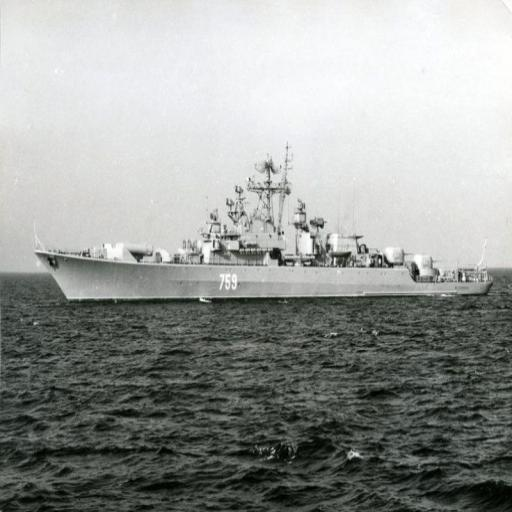Fragata: (34, 135, 498, 311)
